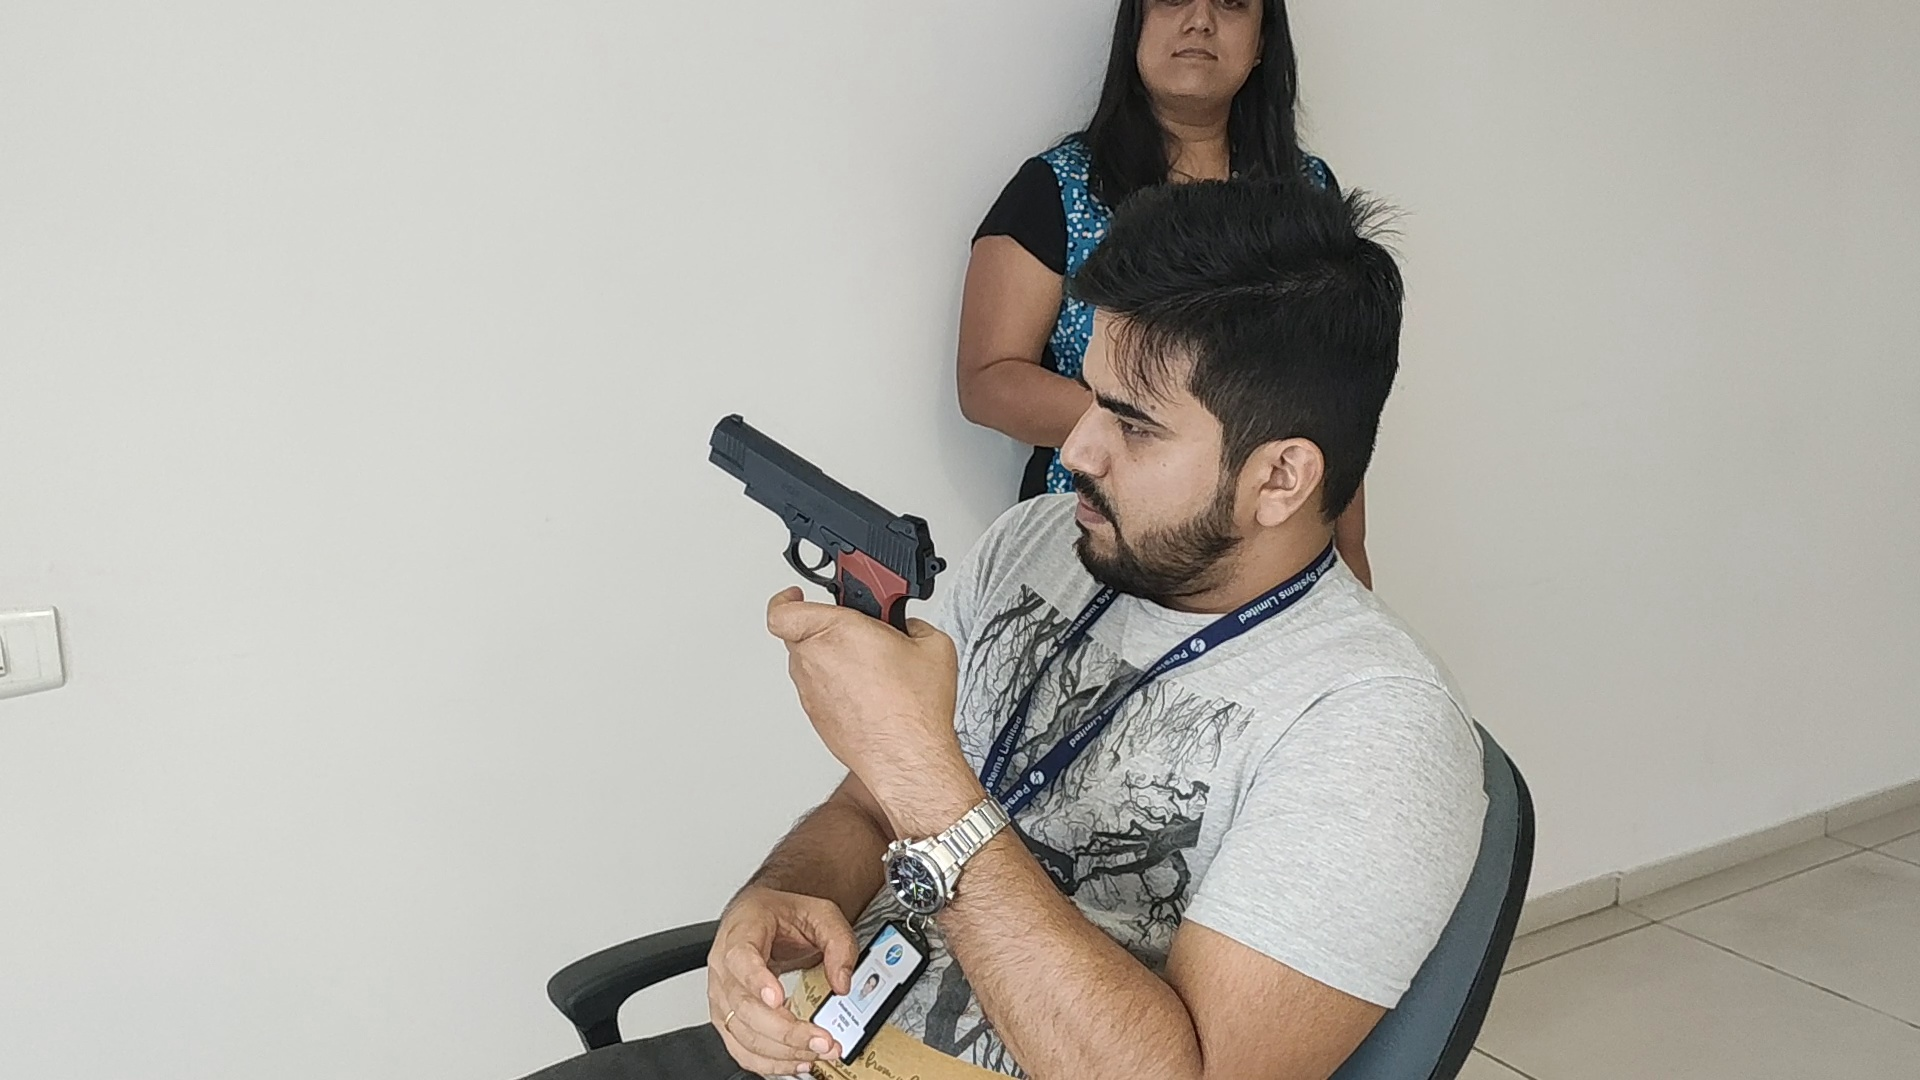gun: (705, 411, 945, 603)
